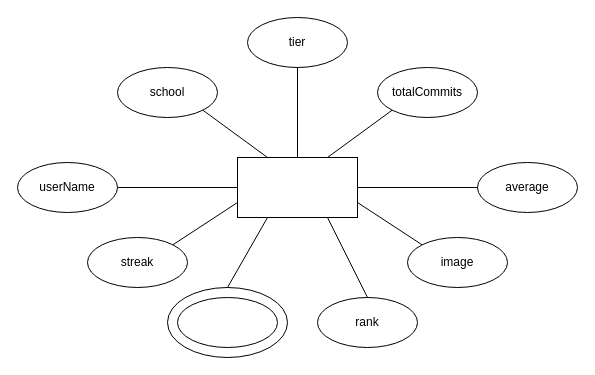
This 595x375 diagram has some shape labels left out. Each missing label, with the centre of its shape:
friends: point 227,322
User: point 297,187
